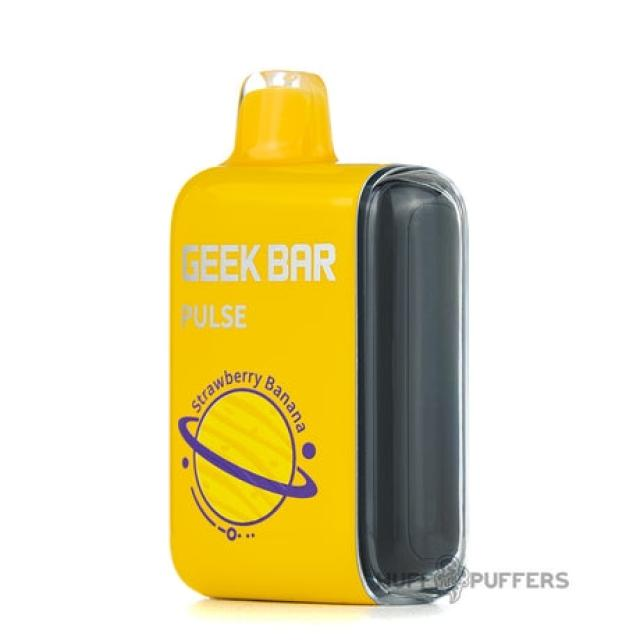Vape-images: (167, 66, 469, 606)
